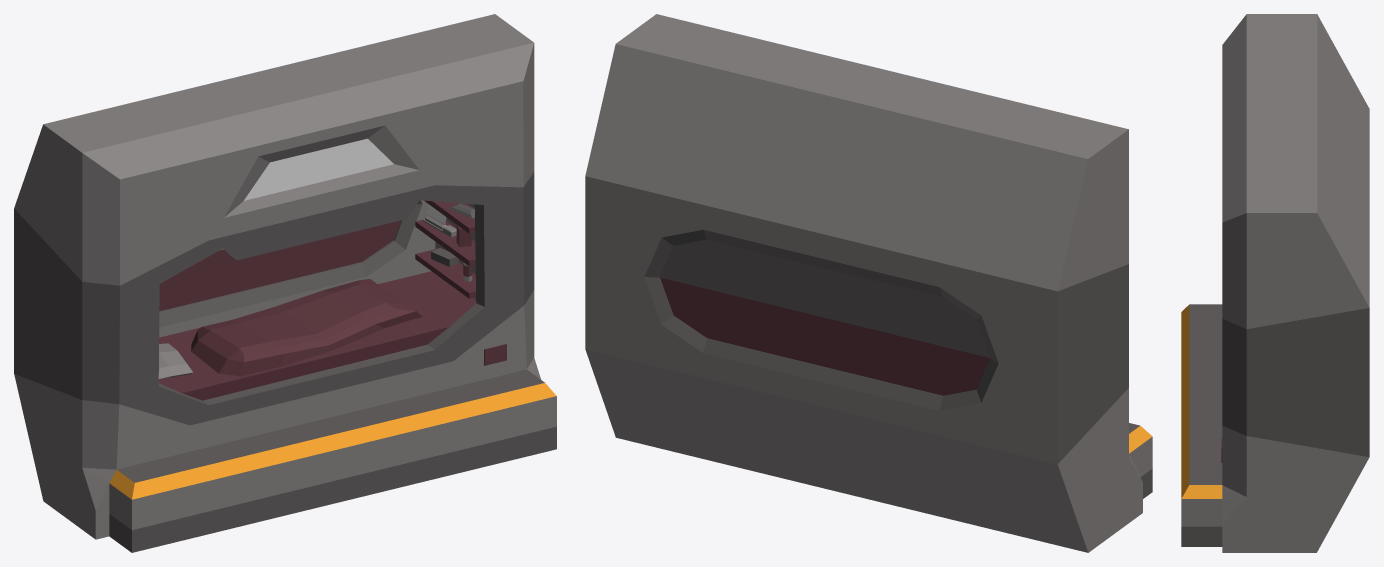
Rendered from scifi-capsule-corridor.fbx.
The picture shows the model from 3 angles, left to right: view 1: azimuth 30°, elevation 25°; view 2: azimuth 150°, elevation 25°; view 3: azimuth 270°, elevation 25°; orthographic projection. The views are drawn at different scales.
Parts seen in each view (by area): view 1: scifi-capsule-corridor; view 2: scifi-capsule-corridor; view 3: scifi-capsule-corridor.
Part boxes in pixels (<box>): scifi-capsule-corridor: <box>14,14,556,552</box>; scifi-capsule-corridor: <box>585,14,1152,552</box>; scifi-capsule-corridor: <box>1181,14,1369,552</box>.
Bounding box in the file's own units: 4 × 3.19 × 1.6.
